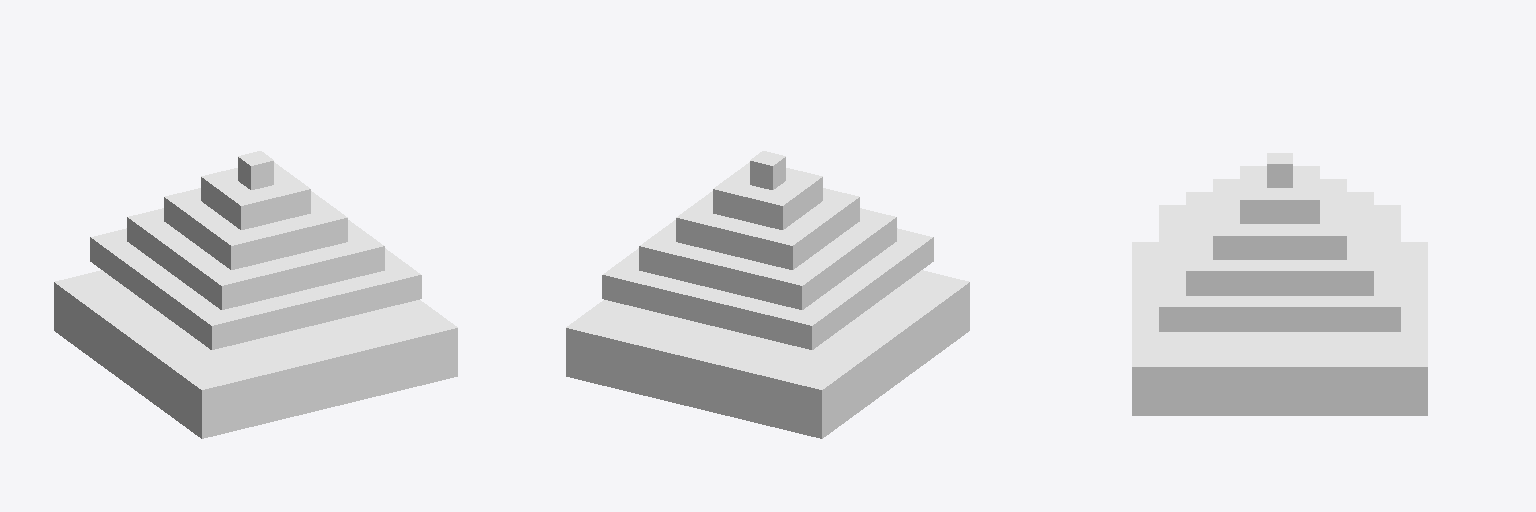
The model's file is the_bomb.obj.
3 renders of one model, left to right at view 1: azimuth 30°, elevation 25°; view 2: azimuth 150°, elevation 25°; view 3: azimuth 270°, elevation 25°, orthographic.
Parts seen in each view (by area): view 1: object 1; view 2: object 1; view 3: object 1.
Part boxes in pixels (bbox=[...]): object 1: bbox=[54, 151, 457, 438]; object 1: bbox=[566, 151, 969, 438]; object 1: bbox=[1132, 153, 1427, 415].
Size of the model in its own units: 1.1 by 0.8 by 1.1.